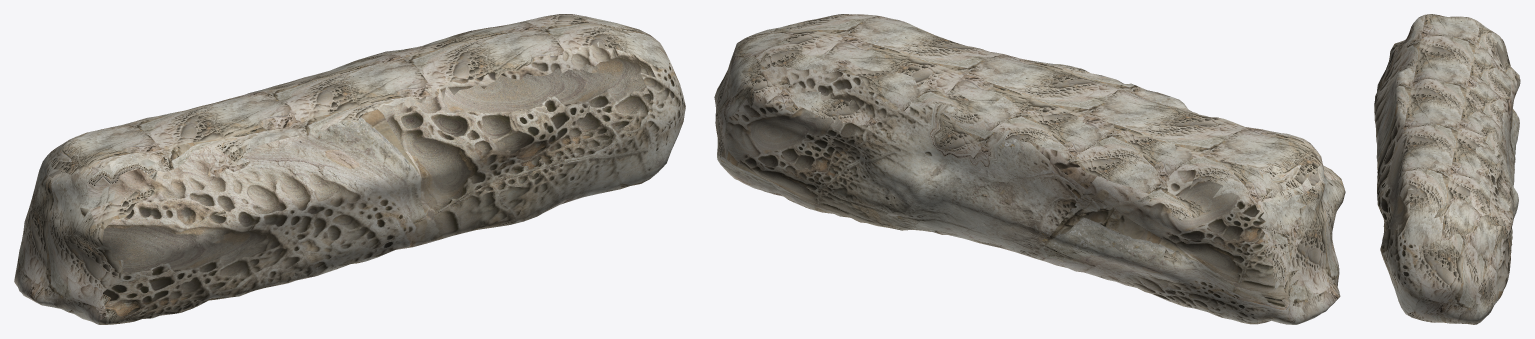
The model's file is stone_formation_b_4.fbx.
3 renders of one model, left to right at view 1: azimuth 30°, elevation 25°; view 2: azimuth 150°, elevation 25°; view 3: azimuth 270°, elevation 25°, orthographic. The views are drawn at different scales.
Visible parts, largest first — view 1: Cube; view 2: Cube; view 3: Cube.
Boxes of the visible parts, box(x1,y1,x2,y2) form: Cube: box(14, 14, 685, 324); Cube: box(714, 14, 1345, 324); Cube: box(1374, 14, 1520, 324).
Size of the model in its own units: 5472 by 1424 by 1455.
1 material, 1 textured.
